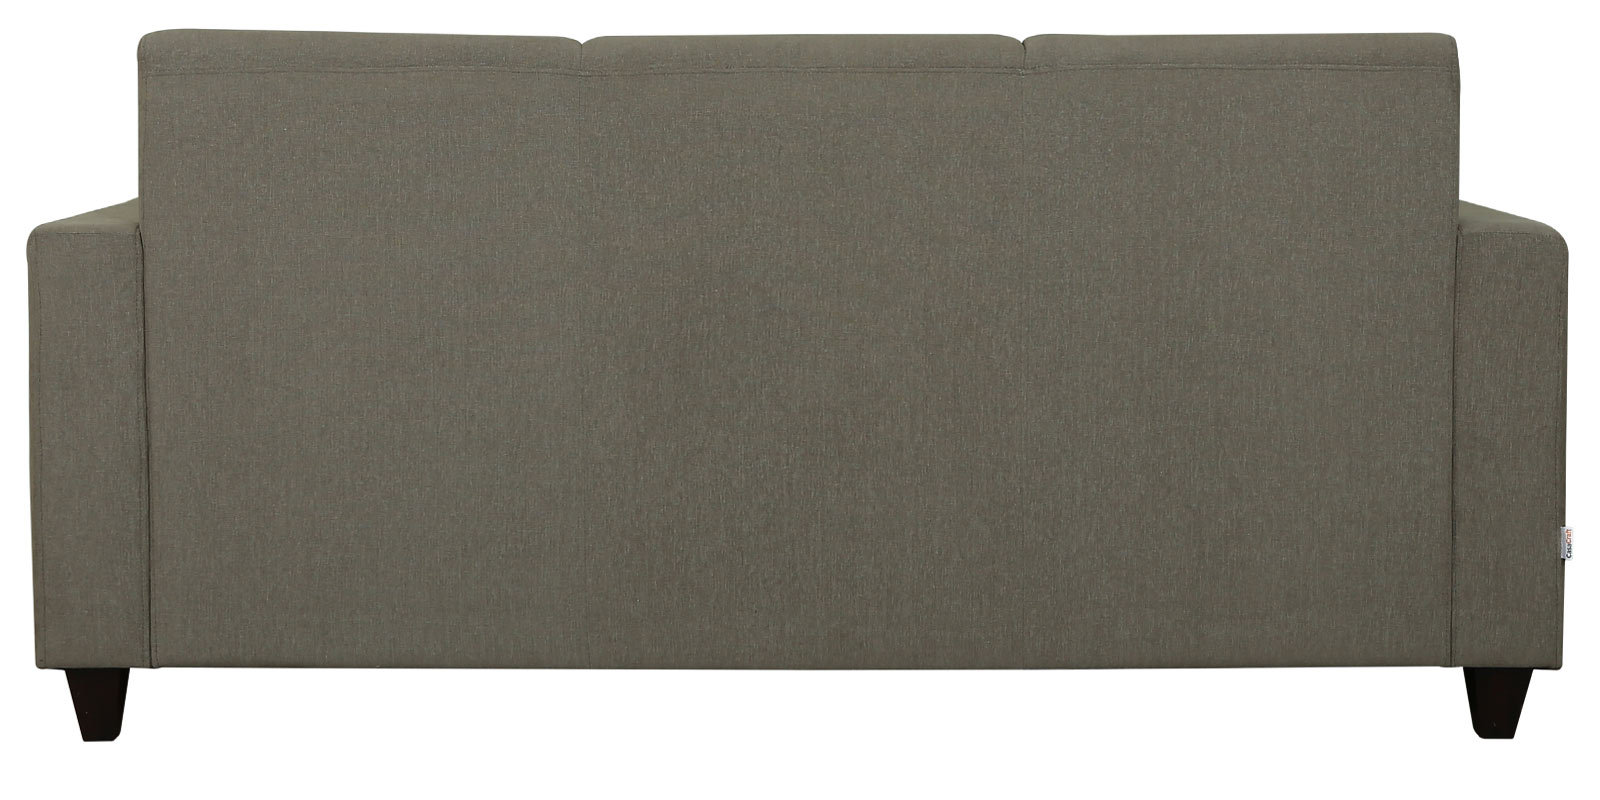Alba Three Seater Sofa in Sandy Brown Colour by CasaCraft: (23, 26, 1584, 748)
